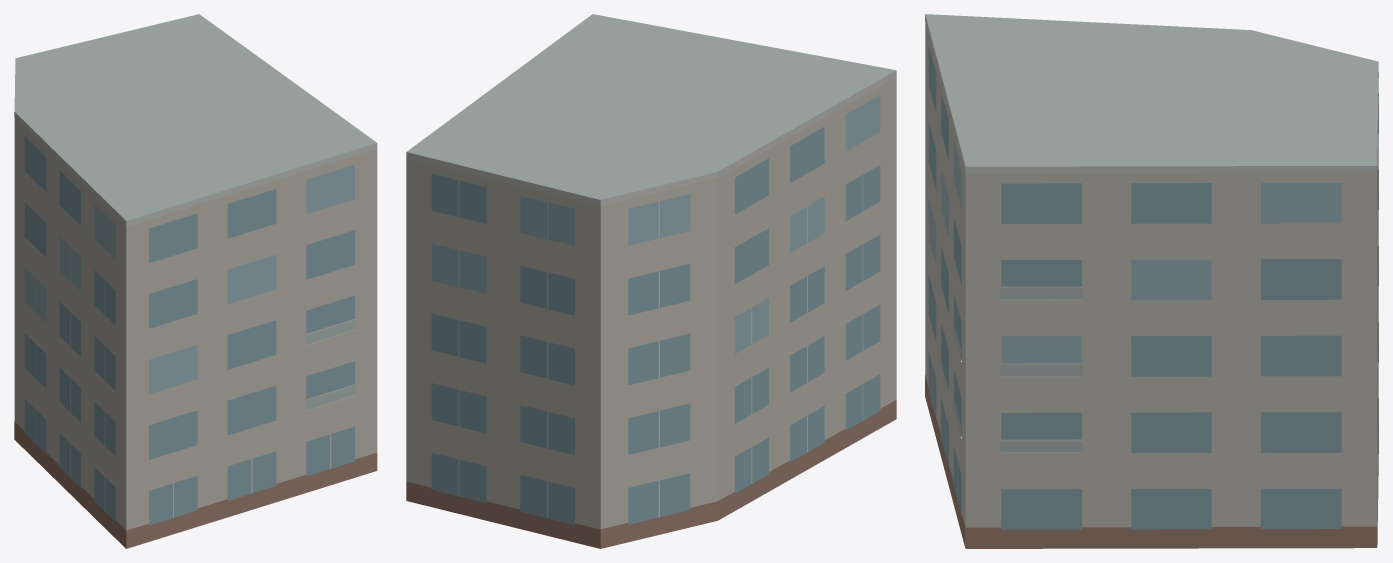
Rendered from survey-upis-32660923.glb.
3 renders of one model, left to right at view 1: azimuth 30°, elevation 25°; view 2: azimuth 150°, elevation 25°; view 3: azimuth 270°, elevation 25°, orthographic. The views are drawn at different scales.
Parts seen in each view (by area): view 1: survey-upis-32660923.tmp; view 2: survey-upis-32660923.tmp; view 3: survey-upis-32660923.tmp.
Boxes of the visible parts, bbox=[...] form: survey-upis-32660923.tmp: bbox=[14, 14, 377, 548]; survey-upis-32660923.tmp: bbox=[406, 14, 896, 548]; survey-upis-32660923.tmp: bbox=[925, 14, 1378, 548].
Size of the model in its own units: 11.52 by 13.4 by 14.43.
